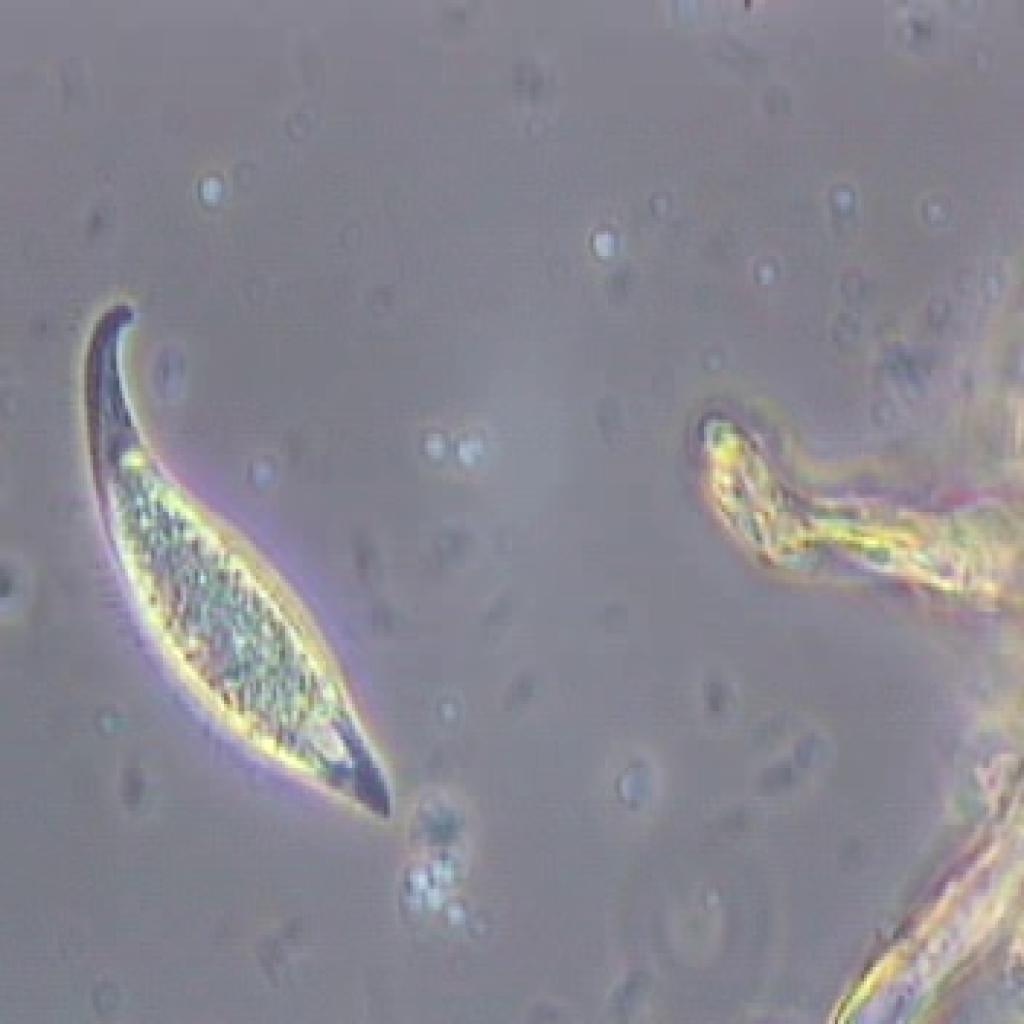Pristina: (58, 281, 416, 875)
